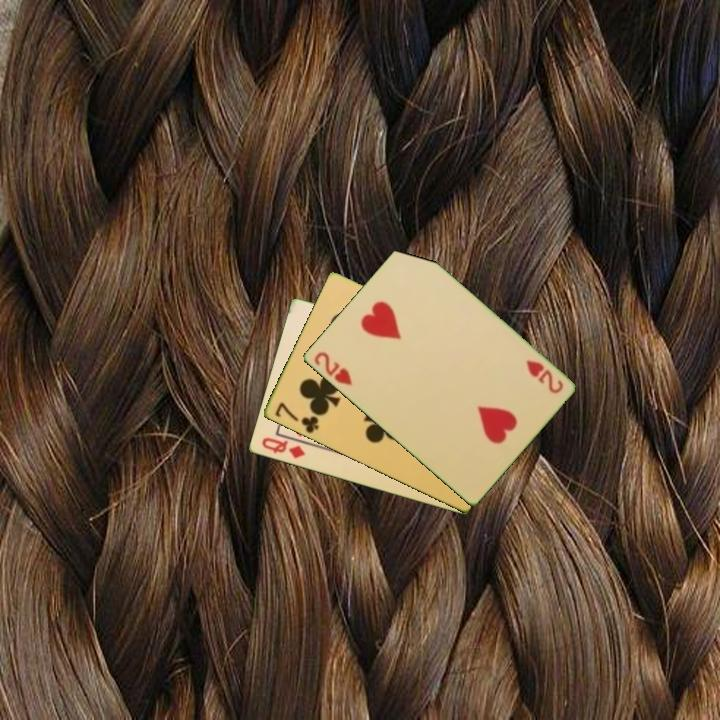2h: (310, 348, 355, 388), (522, 357, 566, 396)
7c: (271, 399, 322, 436)
Qd: (258, 434, 308, 462)
